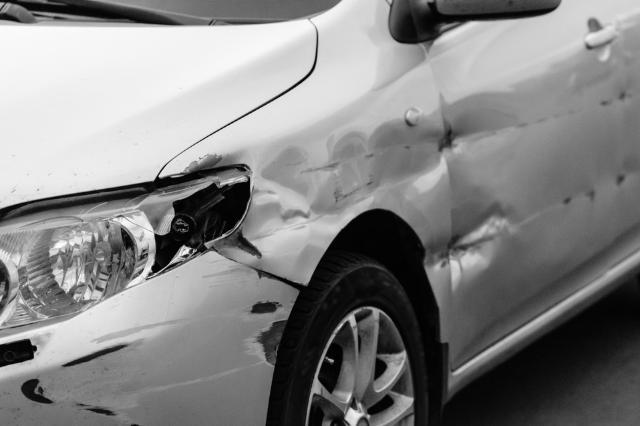Bumper: (0, 273, 294, 426)
Door: (448, 30, 620, 322)
Fender: (201, 109, 467, 278)
Light: (0, 210, 202, 311)
